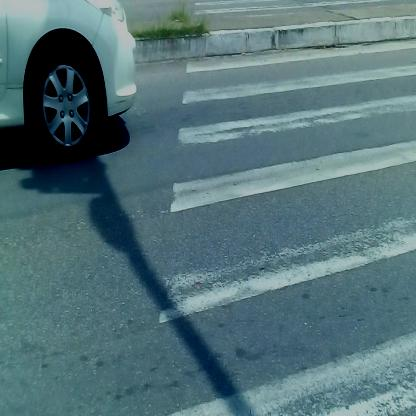crosswalk: (179, 57, 416, 402)
sidewalk: (144, 11, 416, 60)
